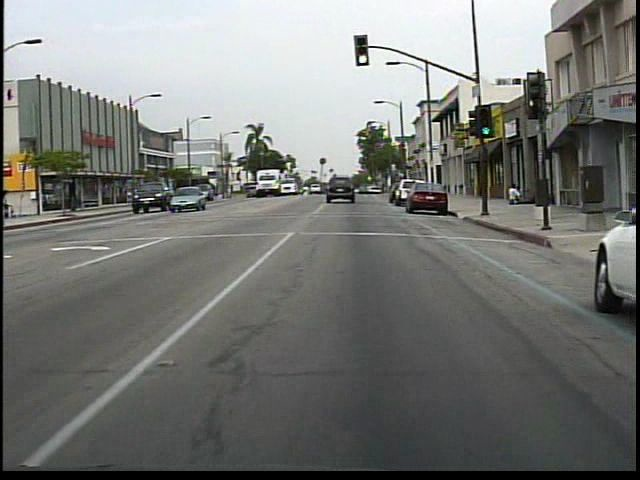person: (502, 182, 520, 206)
